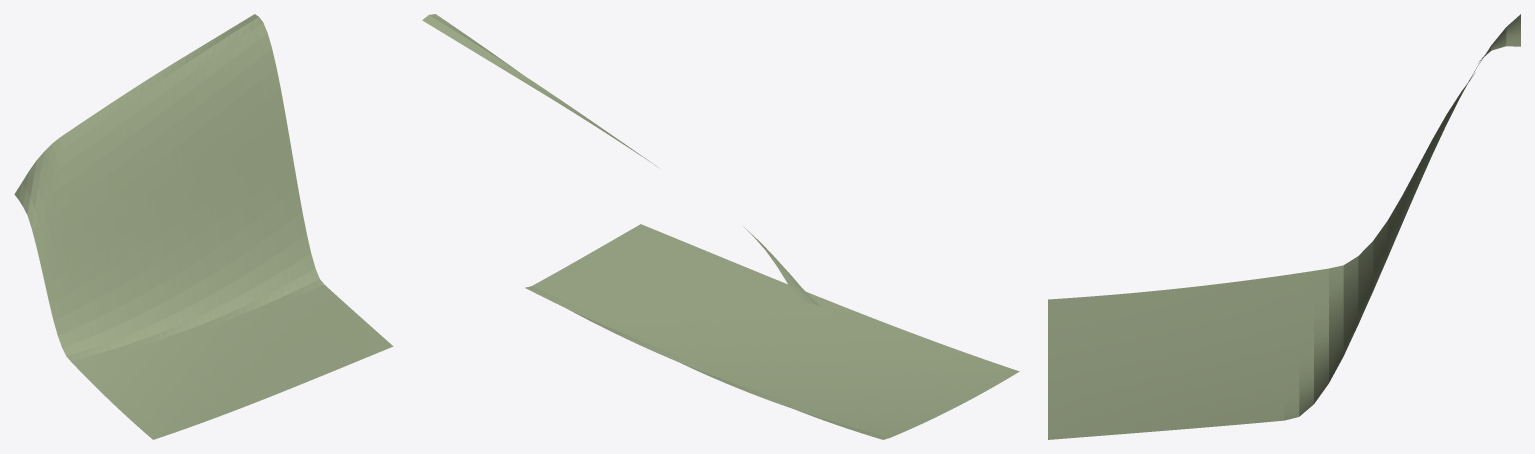
File: alpine-10-12.glb
3 renders of one model, left to right at view 1: azimuth 30°, elevation 25°; view 2: azimuth 150°, elevation 25°; view 3: azimuth 270°, elevation 25°, orthographic. The views are drawn at different scales.
Visible parts, largest first — view 1: alpine-10-12; view 2: alpine-10-12; view 3: alpine-10-12.
Boxes of the visible parts, x1,y1,x2,y2 form: alpine-10-12: (14, 14, 393, 439); alpine-10-12: (422, 14, 1019, 439); alpine-10-12: (1048, 14, 1520, 439).
Bounding box in the file's own units: 256 × 271 × 256.
